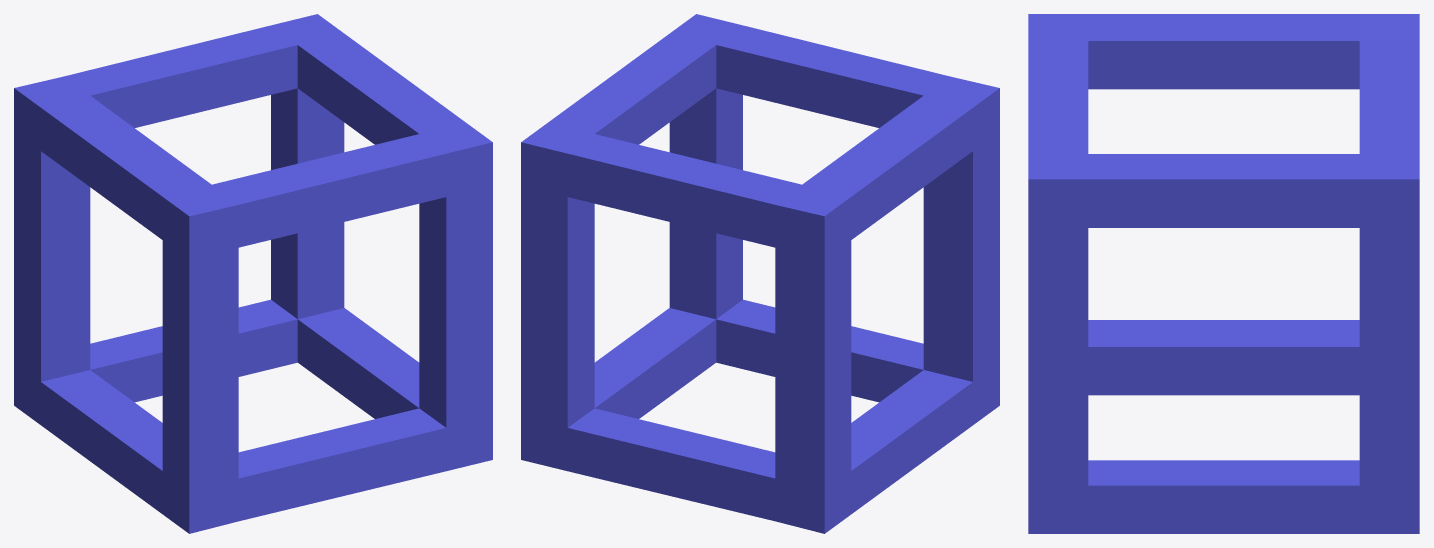
File: FinalBoids.fbx
3 renders of one model, left to right at view 1: azimuth 30°, elevation 25°; view 2: azimuth 150°, elevation 25°; view 3: azimuth 270°, elevation 25°, orthographic. The views are drawn at different scales.
Visible parts, largest first — view 1: Cube; view 2: Cube; view 3: Cube.
Boxes of the visible parts, bbox=[...] form: Cube: bbox=[14, 14, 492, 533]; Cube: bbox=[521, 14, 999, 533]; Cube: bbox=[1028, 14, 1419, 533].
Size of the model in its own units: 2 by 2 by 2.
1 material, 1 textured.
